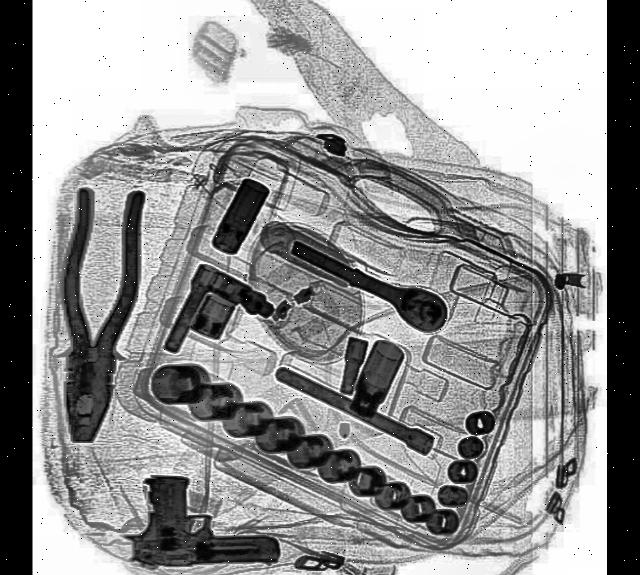Gun: (124, 470, 278, 566)
Pliers: (44, 178, 148, 447)
